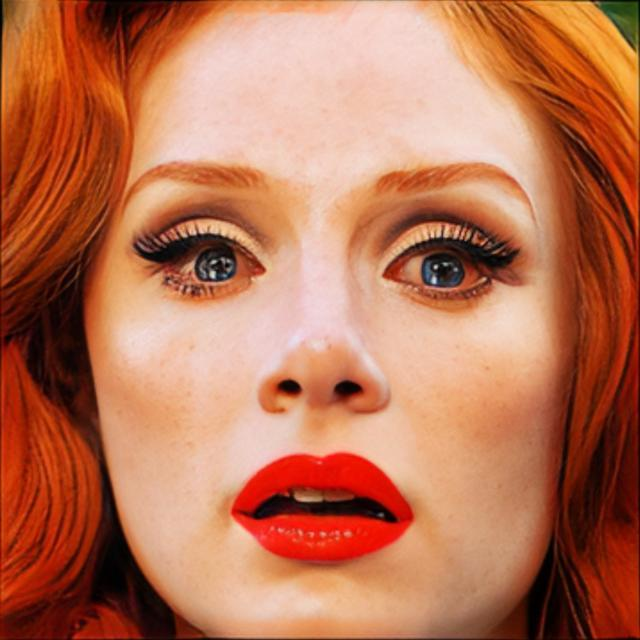fear: (84, 0, 581, 640)
